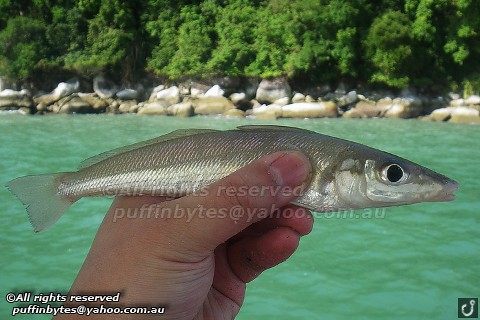kiss: (7, 120, 464, 227)
